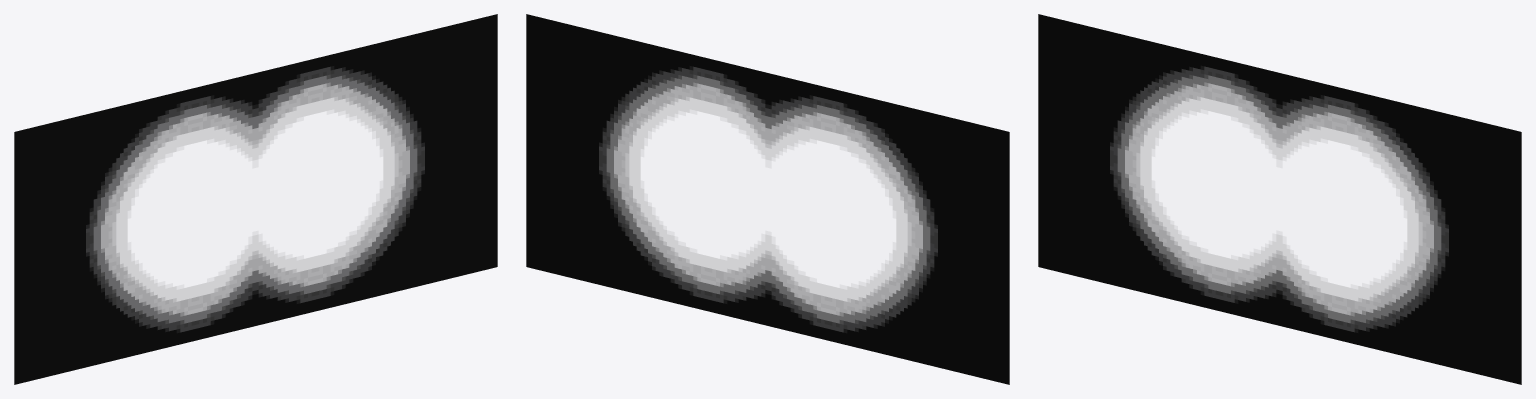
The picture shows the model from 3 angles, left to right: view 1: azimuth 30°, elevation 25°; view 2: azimuth 150°, elevation 25°; view 3: azimuth 330°, elevation 25°; orthographic projection.
Size of the model in its own units: 14.4 by 7.2 by 0.
Materials: 1 (1 with a texture image).
